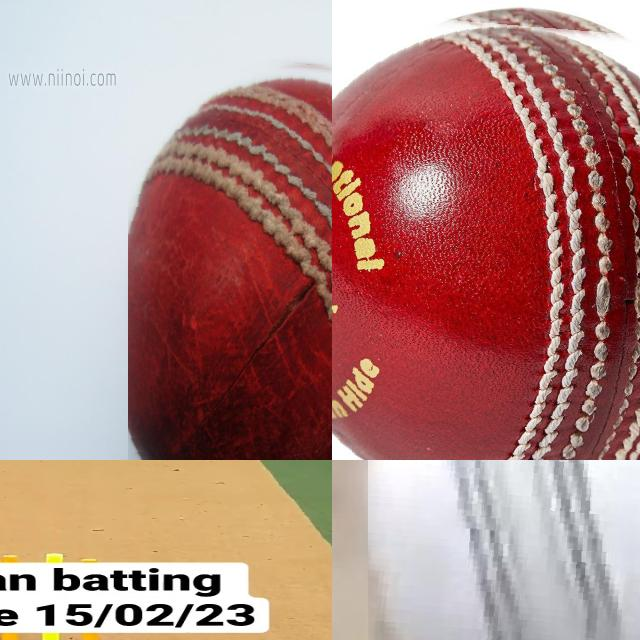Cricket ball: (332, 5, 640, 460), (128, 50, 332, 460), (368, 460, 640, 640)
